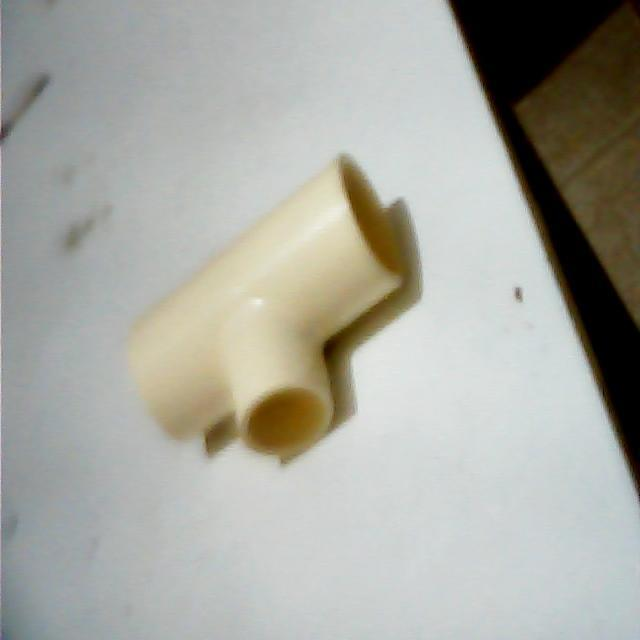T Joint: (126, 154, 411, 465)
